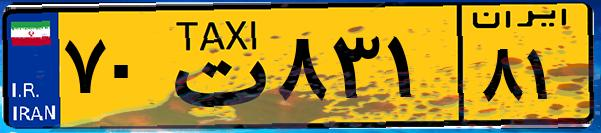0: (110, 28, 158, 98)
1: (385, 28, 445, 110), (525, 38, 570, 115)
3: (330, 28, 385, 110)
7: (57, 26, 110, 100)
8: (270, 28, 330, 110), (475, 38, 525, 113)
ت: (158, 12, 270, 120)
